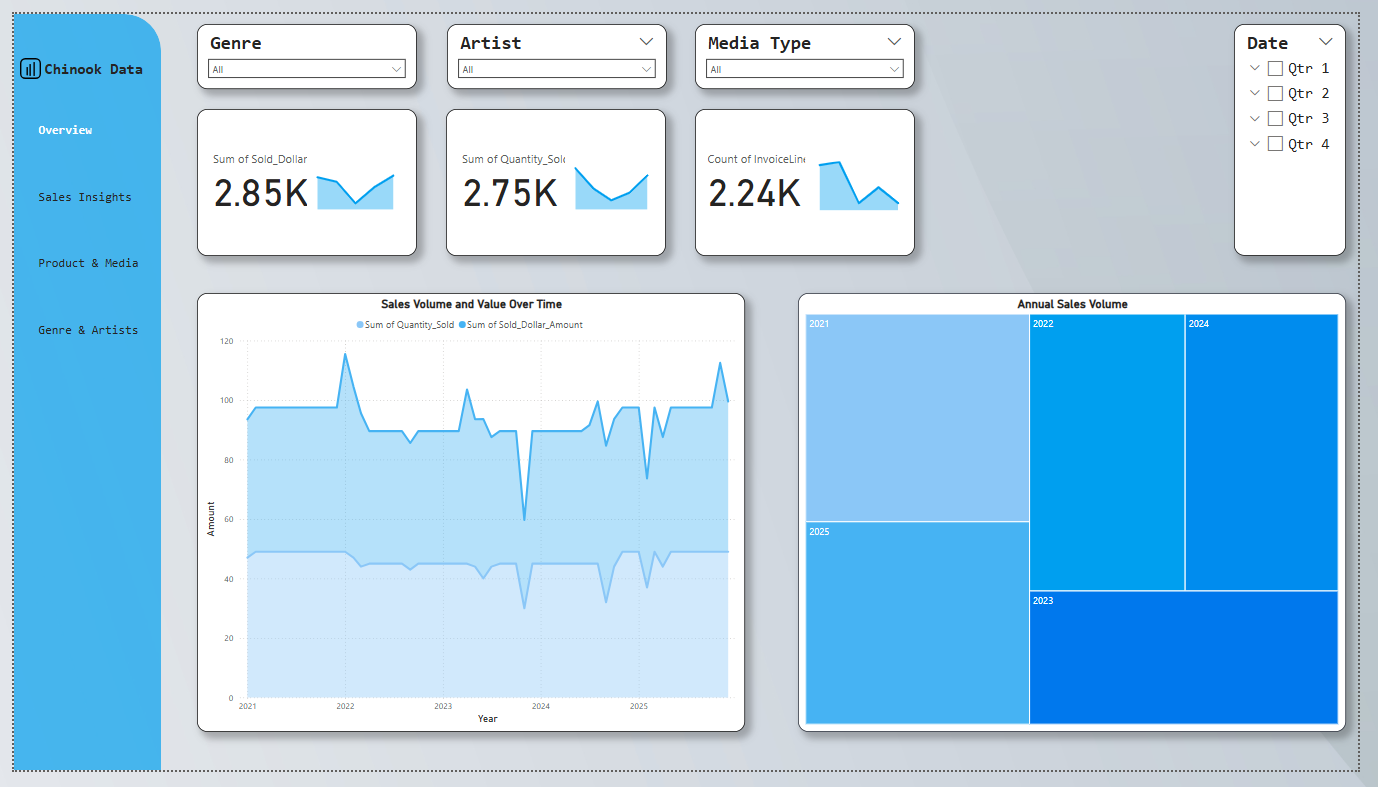

This screenshot's page, from the dashboard's own definition file:
{"tool":"powerbi","page":{"name":"Overview","canvas":[1920,1080],"ordinal":0},"visuals":[{"type":"shape","box":[1.3,0,209.6,1080.3],"z":0},{"type":"shape","box":[12.7,75.8,12,12],"z":1000},{"type":"shape","box":[8.7,62.8,30,30],"z":2000},{"type":"shape","box":[17.7,70.8,12,17.2],"z":3000},{"type":"shape","box":[23,68,12,20.3],"z":4000},{"type":"textbox","box":[38.6,60,171.4,40],"z":5000},{"type":"slicer","fields":{"Values":["Genre.Name"]},"box":[261.6,13.9,313.8,92.5],"z":6000},{"type":"slicer","fields":{"Values":["Artist.Name"]},"box":[617.9,13.9,313.8,92.5],"z":7000},{"type":"slicer","fields":{"Values":["MediaType.Name"]},"box":[972.9,13.9,313.8,92.5],"z":8000},{"type":"slicer","fields":{"Values":["Dim_Date.FullDate.Variation.Date Hierarchy.Quarter","Dim_Date.FullDate.Variation.Date Hierarchy.Month"]},"box":[1742.9,14.3,160,331.4],"z":9000},{"type":"pageNavigator","box":[0,122.9,210,371.4],"z":10000},{"type":"cardVisual","fields":{"Data":["Sum(Sales_Analysis_Fact_Table_New.Sold_Dollar_Amount)"]},"box":[261.4,135.7,314.3,210],"z":11000},{"type":"cardVisual","fields":{"Data":["Sum(Sales_Analysis_Fact_Table_New.Quantity_Sold)"]},"box":[617.1,135.7,314.3,210],"z":12000},{"type":"cardVisual","title":"Total","fields":{"Data":["CountNonNull(Sales_Analysis_Fact_Table_New.InvoiceLineId)"]},"box":[972.9,135.7,314.3,210],"z":13000},{"type":"stackedAreaChart","title":"Sales Volume and Value Over Time","fields":{"Category":["Dim_Date.FullDate.Variation.Date Hierarchy.Year","Dim_Date.FullDate.Variation.Date Hierarchy.Quarter","Dim_Date.FullDate.Variation.Date Hierarchy.Month"],"Y":["Sum(Sales_Analysis_Fact_Table_New.Quantity_Sold)","Sum(Sales_Analysis_Fact_Table_New.Sold_Dollar_Amount)"]},"box":[261.4,398.6,782.9,627.1],"z":14000},{"type":"treemap","title":"Annual Sales Volume","fields":{"Group":["Dim_Date.Year"],"Values":["Sum(Sales_Analysis_Fact_Table_New.Quantity_Sold)"]},"box":[1120,398.6,782.9,627.1],"z":15000},{"type":"areaChart","fields":{"Category":["Dim_Date.Year"],"Y":["CountNonNull(Sales_Analysis_Fact_Table_New.InvoiceLineId)"]},"box":[1130,191.4,154.3,100],"z":16000},{"type":"areaChart","fields":{"Category":["Dim_Date.Year"],"Y":["Sum(Sales_Analysis_Fact_Table_New.Quantity_Sold)"]},"box":[787.1,197.1,132.9,87.1],"z":17000},{"type":"areaChart","fields":{"Category":["Dim_Date.Year"],"Y":["Sum(Sales_Analysis_Fact_Table_New.Sold_Dollar_Amount)"]},"box":[418.6,197.1,138.6,87.1],"z":18000}]}

Visuals, with their boxes in screenshot pixels (x1, y1, x2, y2), scaled from the page's 1920x1080 canvas onto the 1378x787 screenshot:
shape: bbox=(1, 0, 151, 786)
shape: bbox=(9, 55, 18, 64)
shape: bbox=(6, 46, 28, 68)
shape: bbox=(13, 52, 21, 64)
shape: bbox=(17, 50, 25, 64)
textbox: bbox=(28, 44, 151, 73)
slicer - Genre.Name: bbox=(188, 10, 413, 78)
slicer - Artist.Name: bbox=(443, 10, 669, 78)
slicer - MediaType.Name: bbox=(698, 10, 923, 78)
slicer - Dim_Date.FullDate.Variation.Date Hierarchy.Quarter x Dim_Date.FullDate.Variation.Date Hierarchy.Month: bbox=(1251, 10, 1366, 252)
pageNavigator: bbox=(0, 90, 151, 360)
cardVisual - Sum(Sales_Analysis_Fact_Table_New.Sold_Dollar_Amount): bbox=(188, 99, 413, 252)
cardVisual - Sum(Sales_Analysis_Fact_Table_New.Quantity_Sold): bbox=(443, 99, 668, 252)
"Total" cardVisual: bbox=(698, 99, 924, 252)
"Sales Volume and Value Over Time" stackedAreaChart: bbox=(188, 290, 750, 747)
"Annual Sales Volume" treemap: bbox=(804, 290, 1366, 747)
areaChart - Dim_Date.Year x CountNonNull(Sales_Analysis_Fact_Table_New.InvoiceLineId): bbox=(811, 139, 922, 212)
areaChart - Dim_Date.Year x Sum(Sales_Analysis_Fact_Table_New.Quantity_Sold): bbox=(565, 144, 660, 207)
areaChart - Dim_Date.Year x Sum(Sales_Analysis_Fact_Table_New.Sold_Dollar_Amount): bbox=(300, 144, 400, 207)
